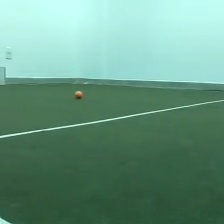ball: (73, 88, 84, 99)
